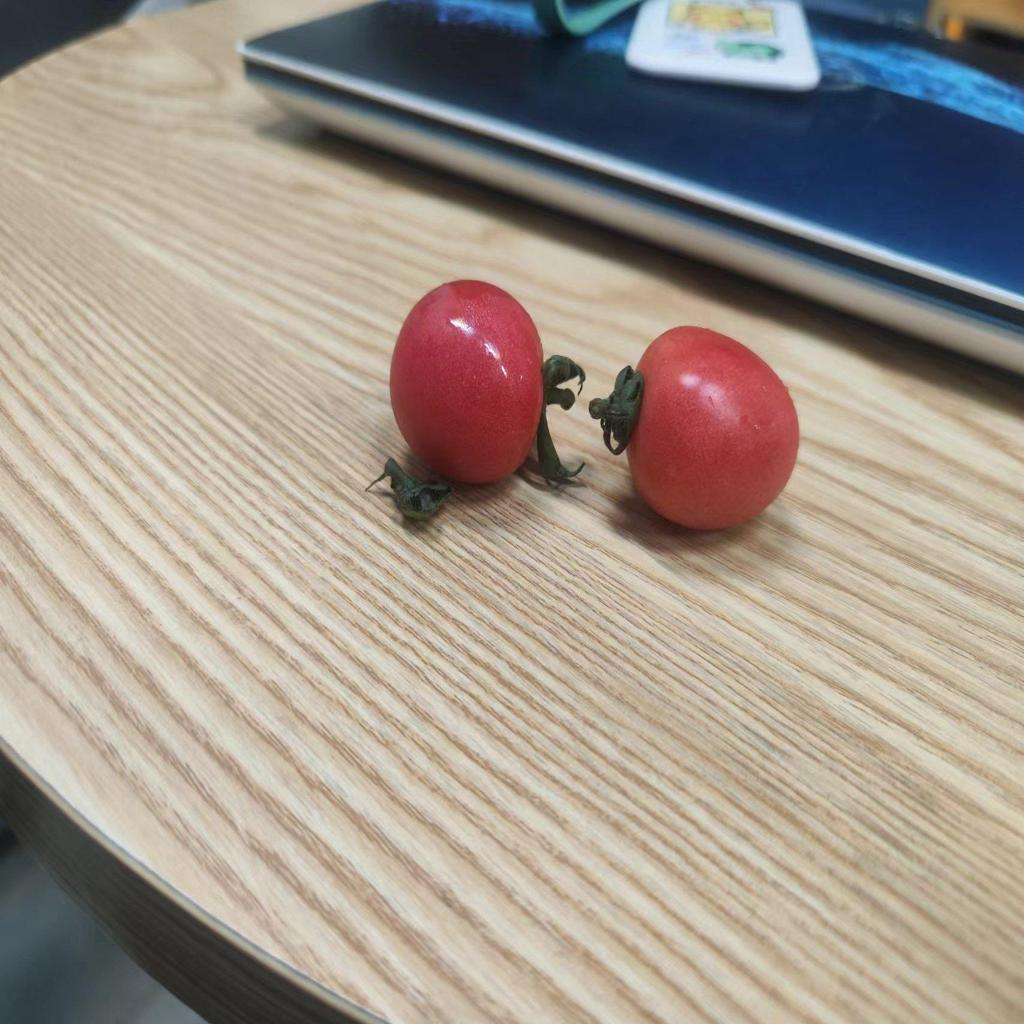tomato: (628, 322, 798, 526), (392, 280, 550, 488)
